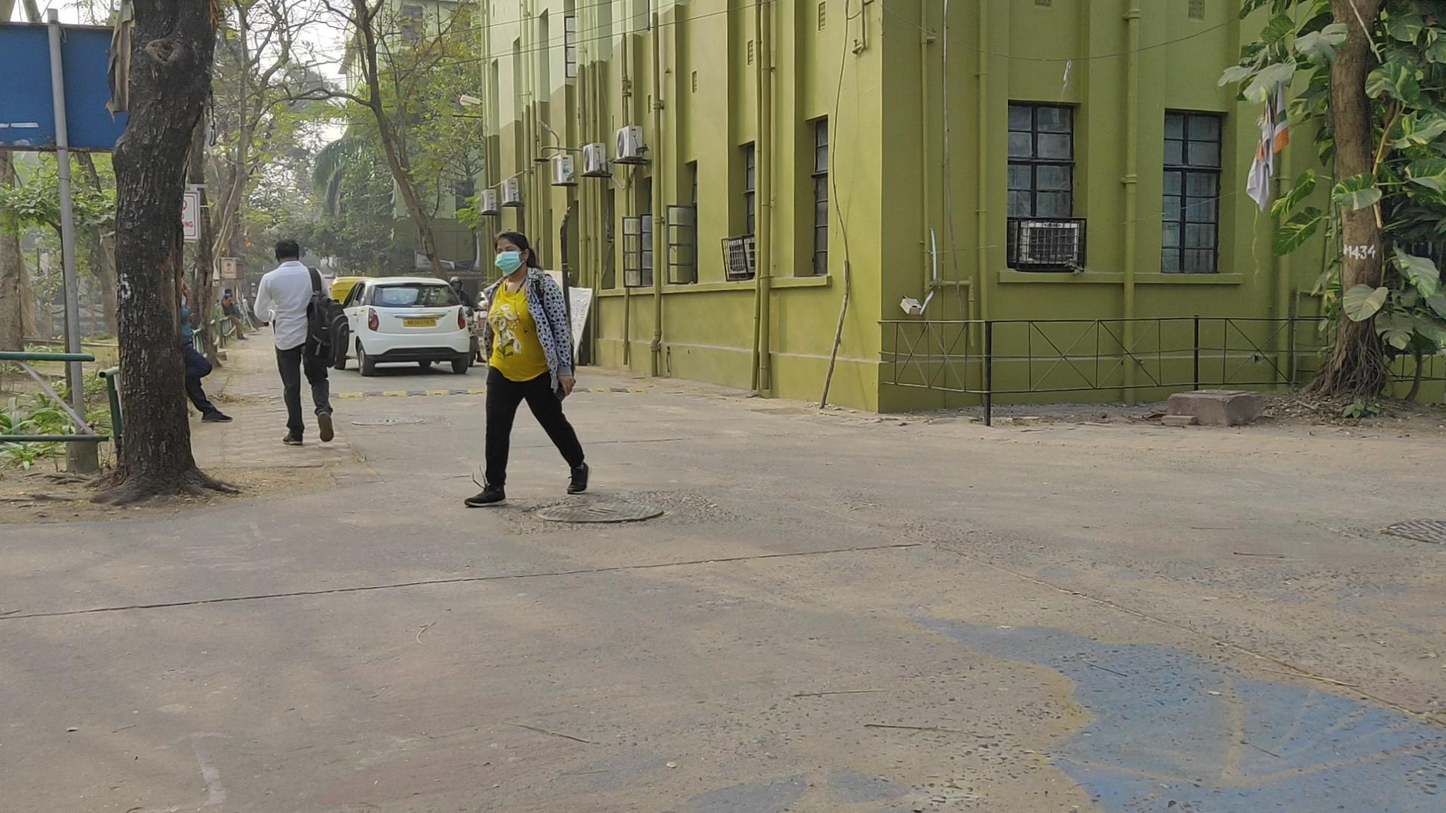car: (342, 278, 473, 376)
